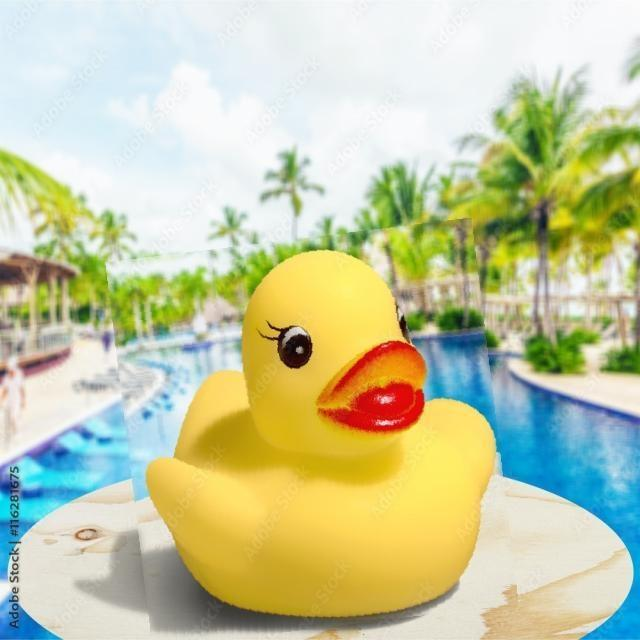rubber-duck: (146, 250, 493, 615)
